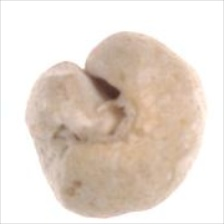L3: (49, 65, 136, 144)
L4: (26, 32, 208, 219)
